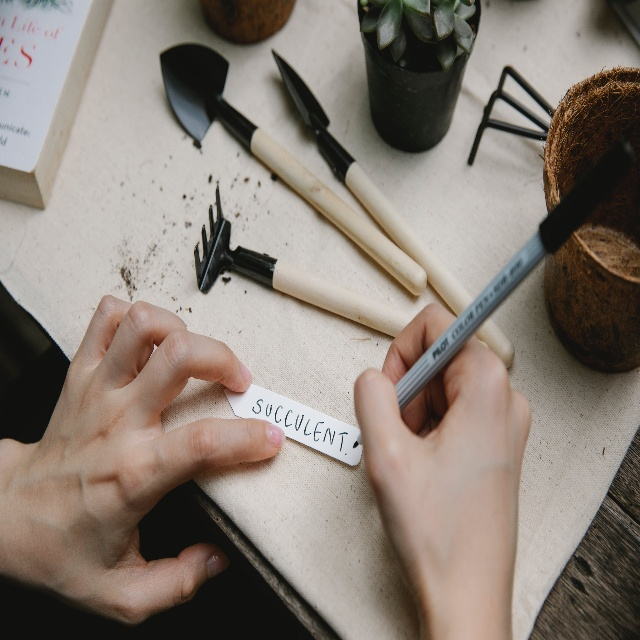Sin_guantes: (23, 292, 285, 630), (353, 301, 534, 614)
